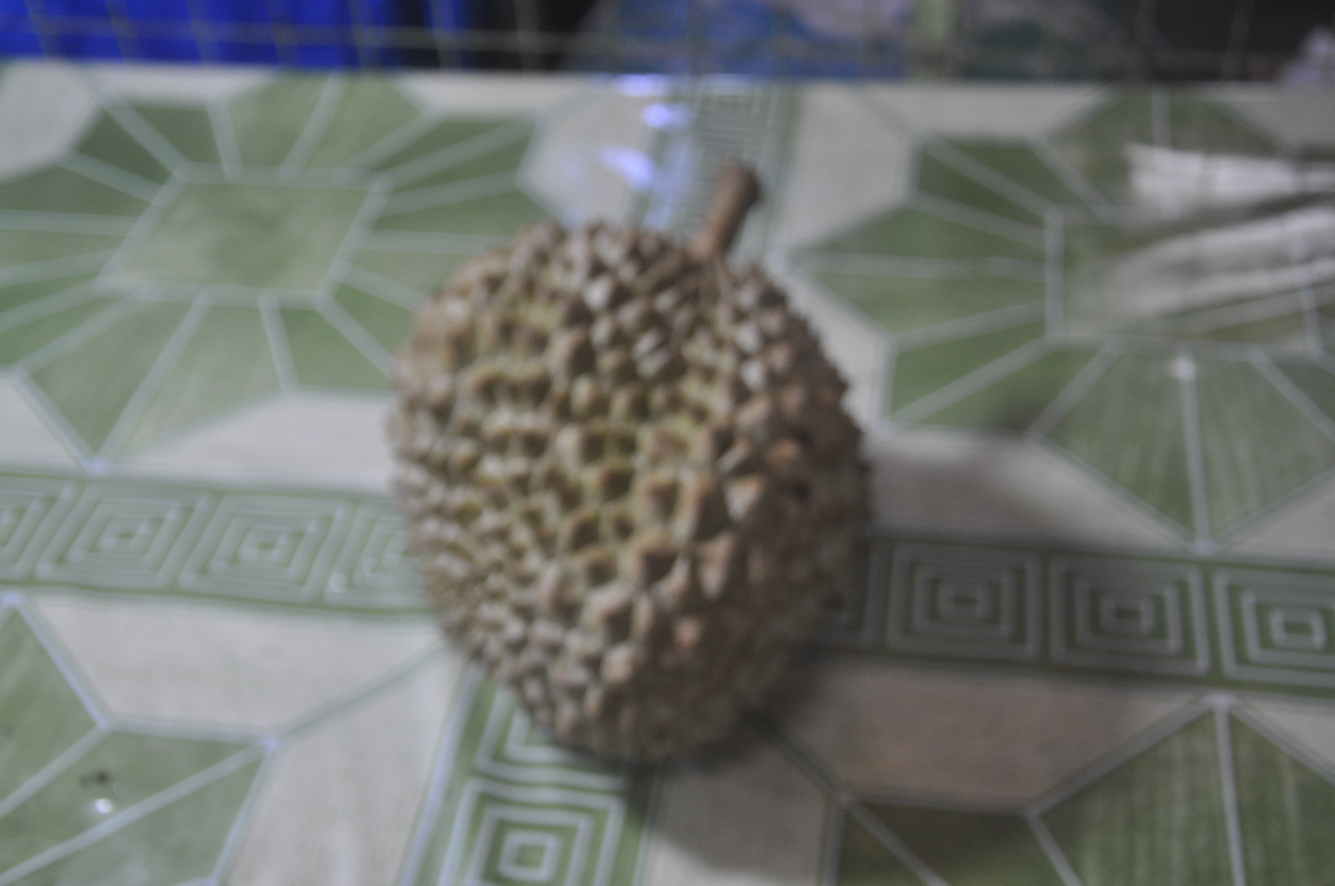mature: (389, 166, 869, 766)
